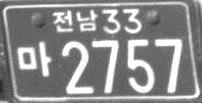2: (61, 39, 95, 95)
3: (120, 7, 142, 35), (100, 8, 121, 35)
5: (125, 37, 155, 95)
7: (153, 37, 183, 95), (90, 39, 120, 95)
마: (16, 40, 51, 80)
전남_O: (51, 8, 98, 33)
